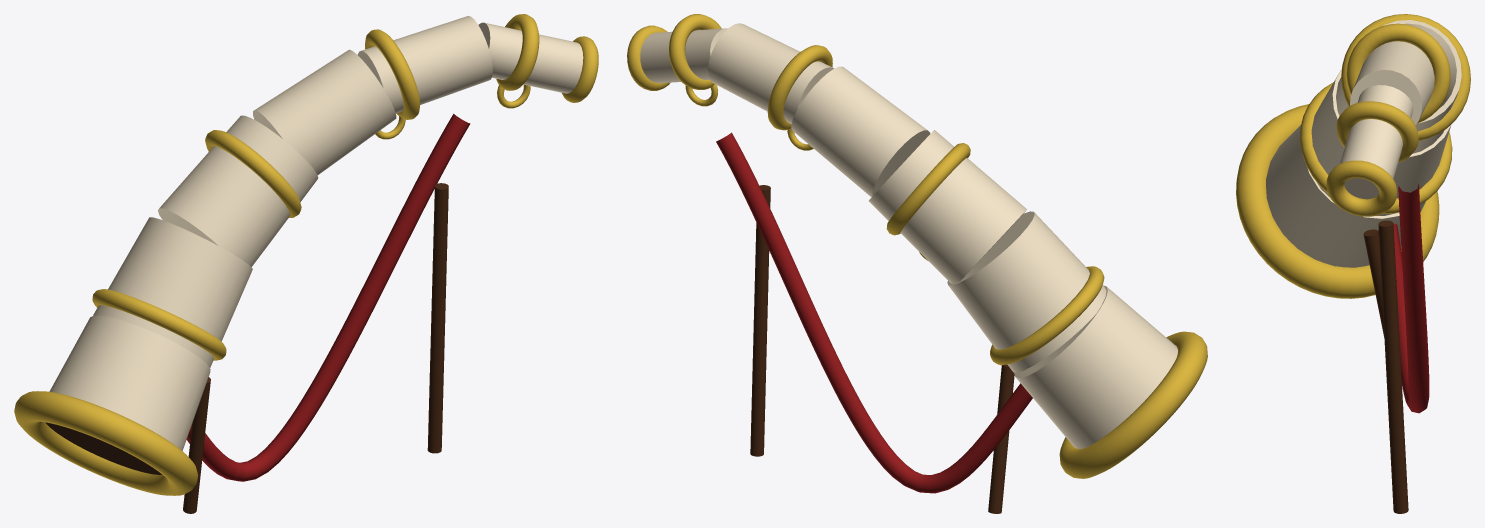
File: roland-olifant.glb
The picture shows the model from 3 angles, left to right: view 1: azimuth 30°, elevation 25°; view 2: azimuth 150°, elevation 25°; view 3: azimuth 270°, elevation 25°; orthographic projection. The views are drawn at different scales.
Visible parts, largest first — view 1: ivory-segment-0, ivory-segment-2, ivory-segment-1, ivory-segment-3, silk-baldric, oliphant-bell-rim, ivory-segment-4, ivory-segment-5, cradle-post-r, brass-band-0, brass-band-1, brass-band-2 (+4 smaller); view 2: ivory-segment-0, ivory-segment-1, ivory-segment-2, silk-baldric, ivory-segment-3, oliphant-bell-rim, ivory-segment-4, cradle-post-r, ivory-segment-5, brass-band-0, brass-band-1, brass-band-2 (+3 smaller); view 3: oliphant-bell-rim, ivory-segment-0, silk-baldric, cradle-post-r, ivory-segment-5, ivory-segment-4, ivory-segment-1, brass-band-2, oliphant-mouthpiece, brass-band-1, brass-band-0, brass-band-3 (+3 smaller).
Part boxes in pixels (x1,y1,x2,y2): ivory-segment-0: [49, 315, 210, 450]; ivory-segment-2: [158, 115, 318, 266]; ivory-segment-1: [93, 217, 252, 367]; ivory-segment-3: [253, 49, 396, 175]; silk-baldric: [186, 113, 470, 481]; oliphant-bell-rim: [14, 391, 198, 495]; ivory-segment-4: [357, 16, 492, 113]; ivory-segment-5: [478, 22, 583, 93]; cradle-post-r: [427, 183, 448, 453]; brass-band-0: [92, 289, 226, 360]; brass-band-1: [205, 130, 301, 217]; brass-band-2: [365, 29, 420, 119]; ivory-segment-0: [1014, 285, 1177, 448]; ivory-segment-1: [947, 211, 1106, 372]; ivory-segment-2: [869, 130, 1026, 283]; silk-baldric: [716, 132, 1032, 493]; ivory-segment-3: [791, 66, 930, 197]; oliphant-bell-rim: [1059, 331, 1207, 478]; ivory-segment-4: [708, 23, 833, 123]; cradle-post-r: [750, 185, 770, 456]; ivory-segment-5: [640, 28, 727, 83]; brass-band-0: [990, 266, 1104, 365]; brass-band-1: [886, 143, 970, 235]; brass-band-2: [767, 45, 832, 130]; oliphant-bell-rim: [1236, 104, 1439, 298]; ivory-segment-0: [1266, 125, 1425, 267]; silk-baldric: [1378, 183, 1429, 413]; cradle-post-r: [1378, 220, 1408, 513]; ivory-segment-5: [1340, 85, 1413, 199]; ivory-segment-4: [1350, 41, 1434, 125]; ivory-segment-1: [1311, 69, 1451, 215]; brass-band-2: [1346, 23, 1450, 123]; oliphant-mouthpiece: [1326, 160, 1397, 216]; brass-band-1: [1341, 14, 1470, 140]; brass-band-0: [1300, 82, 1452, 213]; brass-band-3: [1336, 101, 1418, 162].
Size of the model in its own units: 0.8692 by 0.6283 by 0.291.
